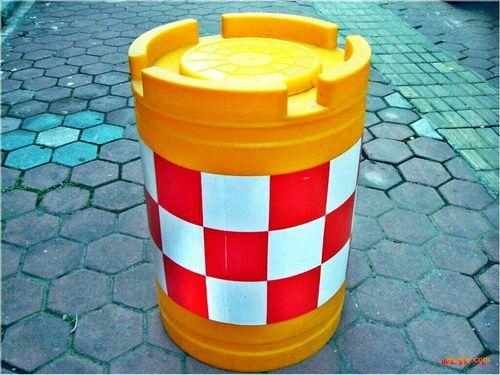sign: (119, 4, 368, 372)
